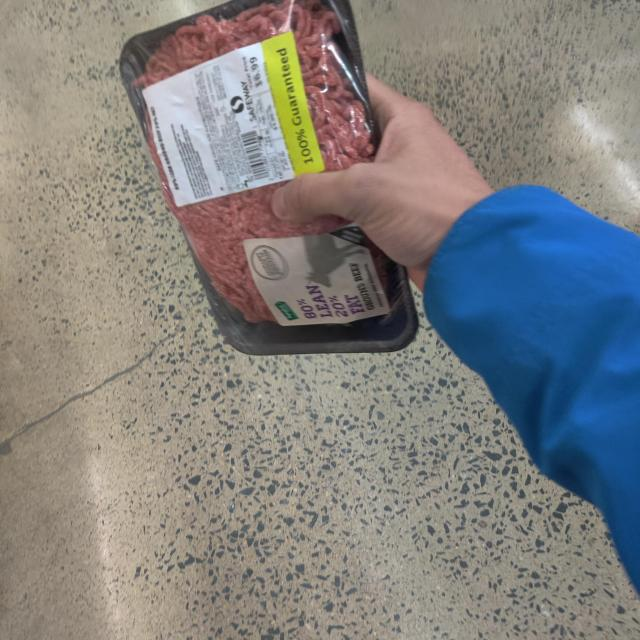Meat: (118, 0, 441, 358)
